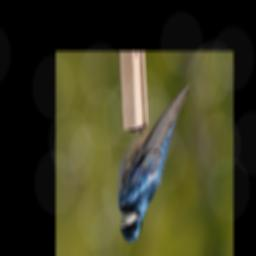Swallow: (116, 78, 190, 247)
